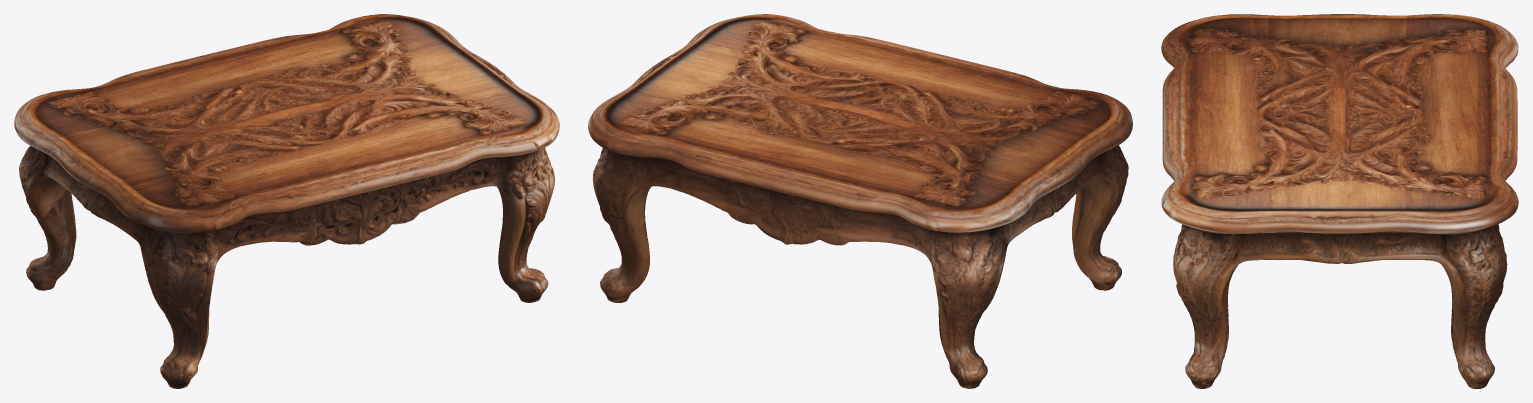
The picture shows the model from 3 angles, left to right: view 1: azimuth 30°, elevation 25°; view 2: azimuth 150°, elevation 25°; view 3: azimuth 270°, elevation 25°; orthographic projection. The views are drawn at different scales.
Visible parts, largest first — view 1: tmpsov9uo5q.ply_Material.001_0; view 2: tmpsov9uo5q.ply_Material.001_0; view 3: tmpsov9uo5q.ply_Material.001_0.
Boxes of the visible parts, x1,y1,x2,y2 form: tmpsov9uo5q.ply_Material.001_0: [14, 14, 559, 388]; tmpsov9uo5q.ply_Material.001_0: [588, 14, 1132, 388]; tmpsov9uo5q.ply_Material.001_0: [1161, 14, 1518, 388].
Size of the model in its own units: 2 by 0.8225 by 1.43.
Materials: 1 (1 with a texture image).
